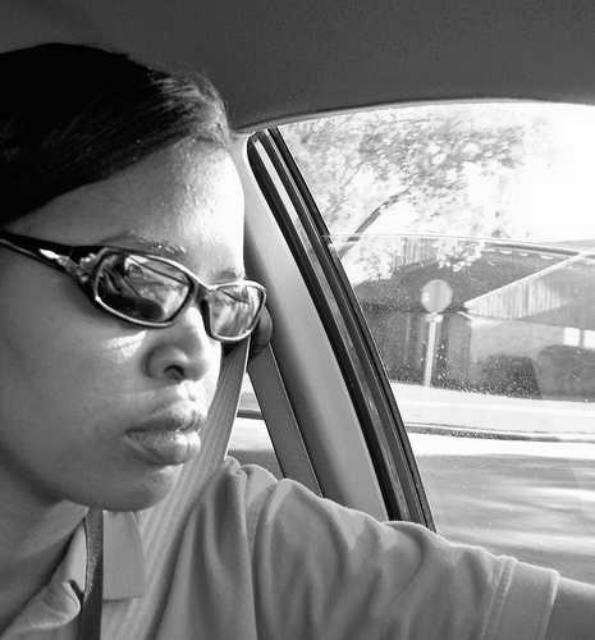Seatbelt: (101, 308, 277, 640)
